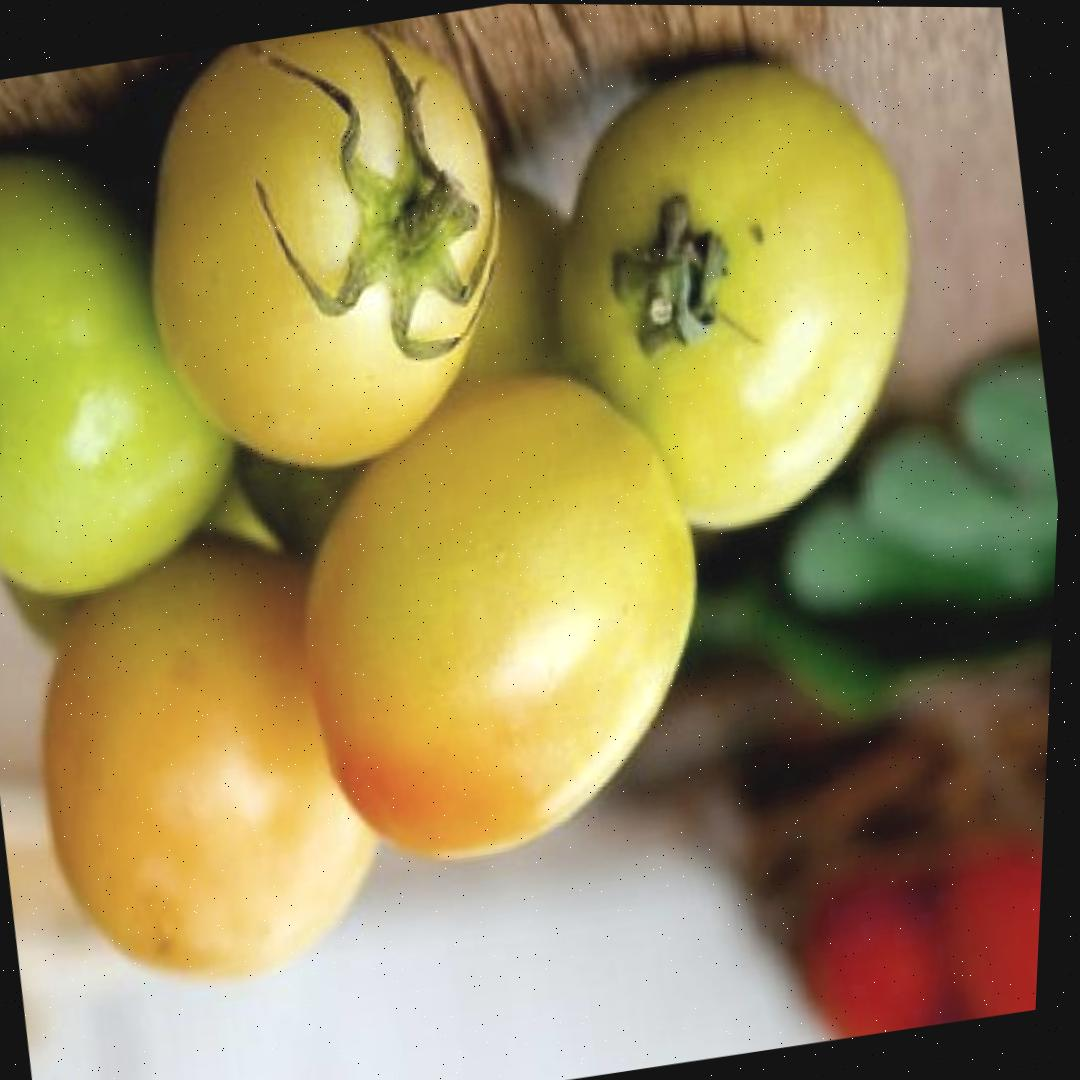mentah: (507, 27, 965, 560), (0, 110, 291, 617)
setengah_matang: (253, 343, 751, 887), (104, 3, 554, 504)
